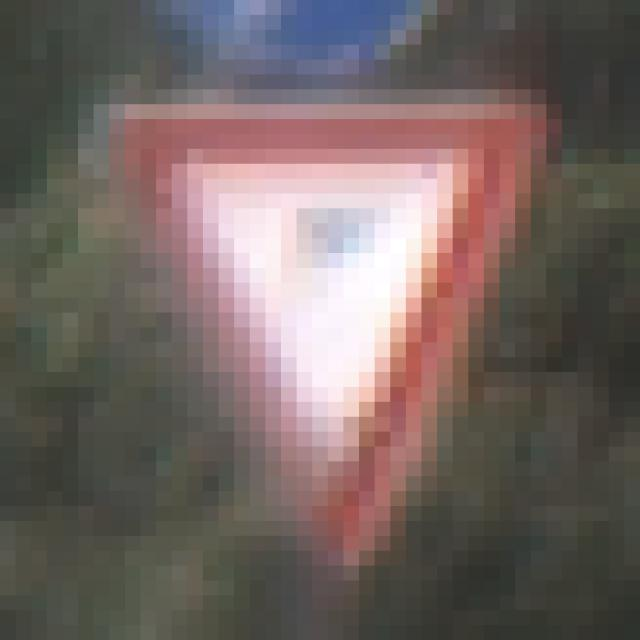Give Way: (79, 76, 563, 567)
